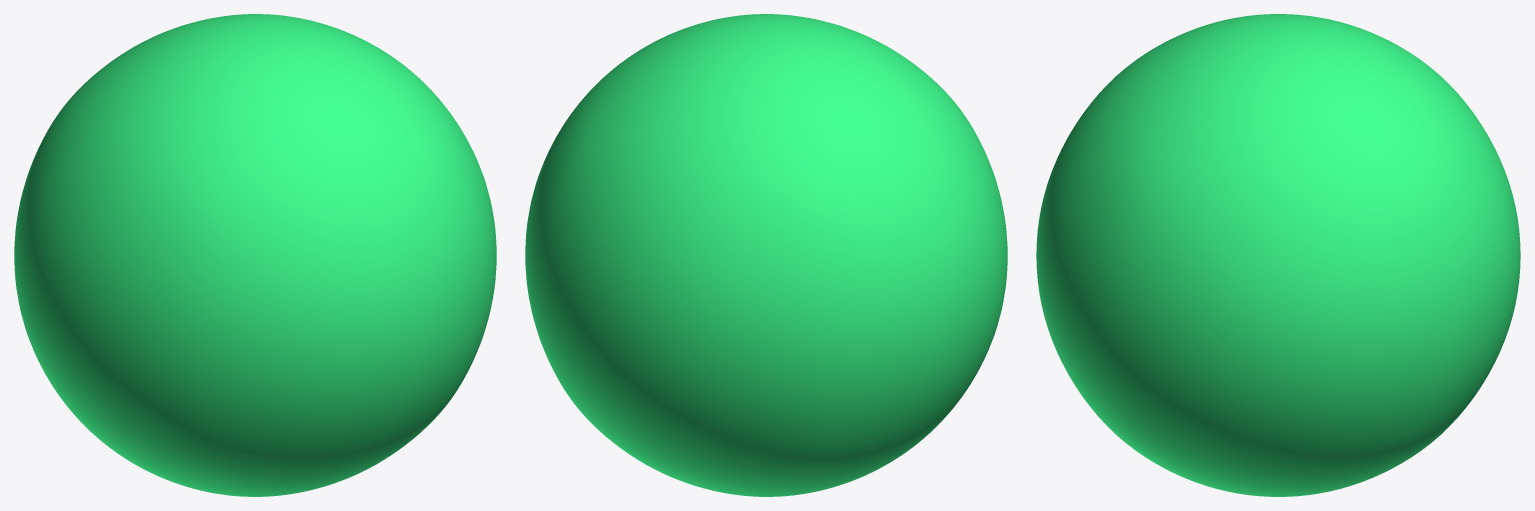
The picture shows the model from 3 angles, left to right: view 1: azimuth 30°, elevation 25°; view 2: azimuth 150°, elevation 25°; view 3: azimuth 270°, elevation 25°; orthographic projection.
Visible parts, largest first — view 1: Object_2; view 2: Object_2; view 3: Object_2.
Part boxes in pixels (x1,y1,x2,y2): Object_2: (14,14,496,496); Object_2: (525,14,1007,496); Object_2: (1036,14,1520,496).
Bounding box in the file's own units: 1 × 1 × 1.
